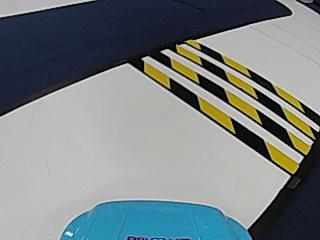bump: (149, 41, 318, 159)
